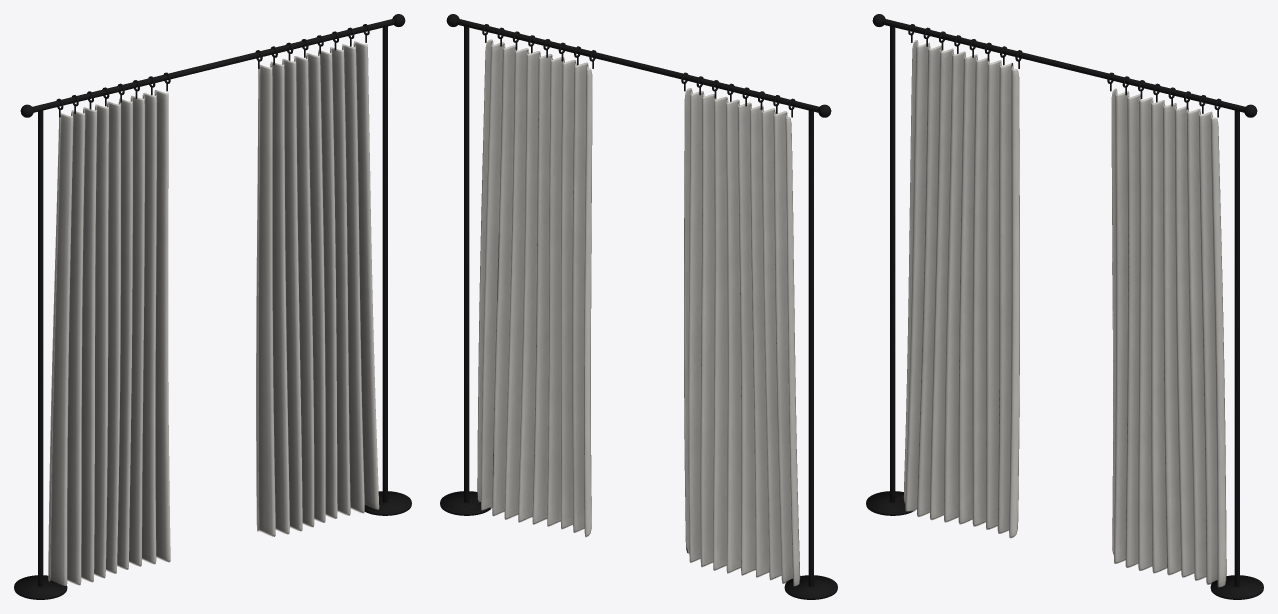
Rendered from white-sheer-black-rod.glb.
3 views of the same model, side by side, from view 1: azimuth 30°, elevation 25°; view 2: azimuth 150°, elevation 25°; view 3: azimuth 330°, elevation 25° (orthographic).
Parts seen in each view (by area): view 1: fabric_primary_curtain, metal_frame; view 2: fabric_primary_curtain, metal_frame; view 3: fabric_primary_curtain, metal_frame.
Part boxes in pixels (x1,y1,x2,y2): fabric_primary_curtain: (48,41,379,585); metal_frame: (14,14,411,599); fabric_primary_curtain: (477,39,800,586); metal_frame: (440,14,837,599); fabric_primary_curtain: (903,40,1226,587); metal_frame: (866,14,1263,599).
Size of the model in its own units: 2.04 by 2.43 by 0.24.
Materials: 2 (2 with a texture image).
